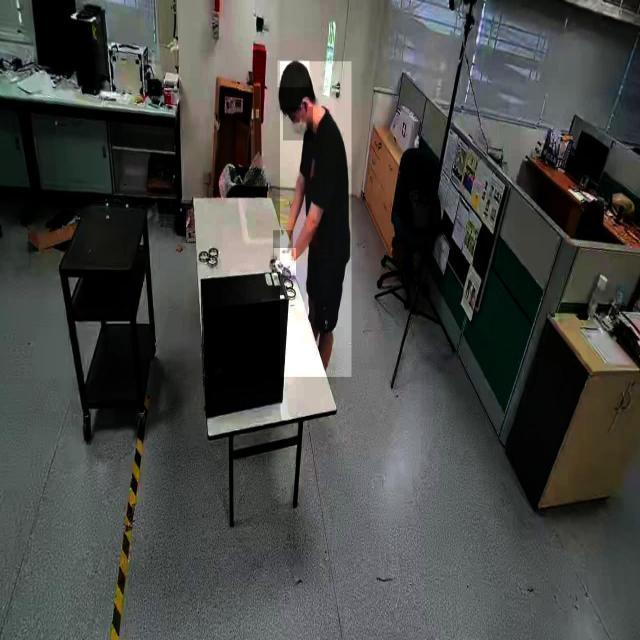gloves: (272, 230, 294, 260), (274, 248, 296, 276)
